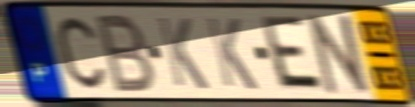B: (93, 11, 158, 95)
C: (54, 14, 109, 92)
E: (259, 13, 328, 95)
K: (203, 14, 261, 93), (154, 14, 212, 92)
N: (305, 11, 374, 97)
